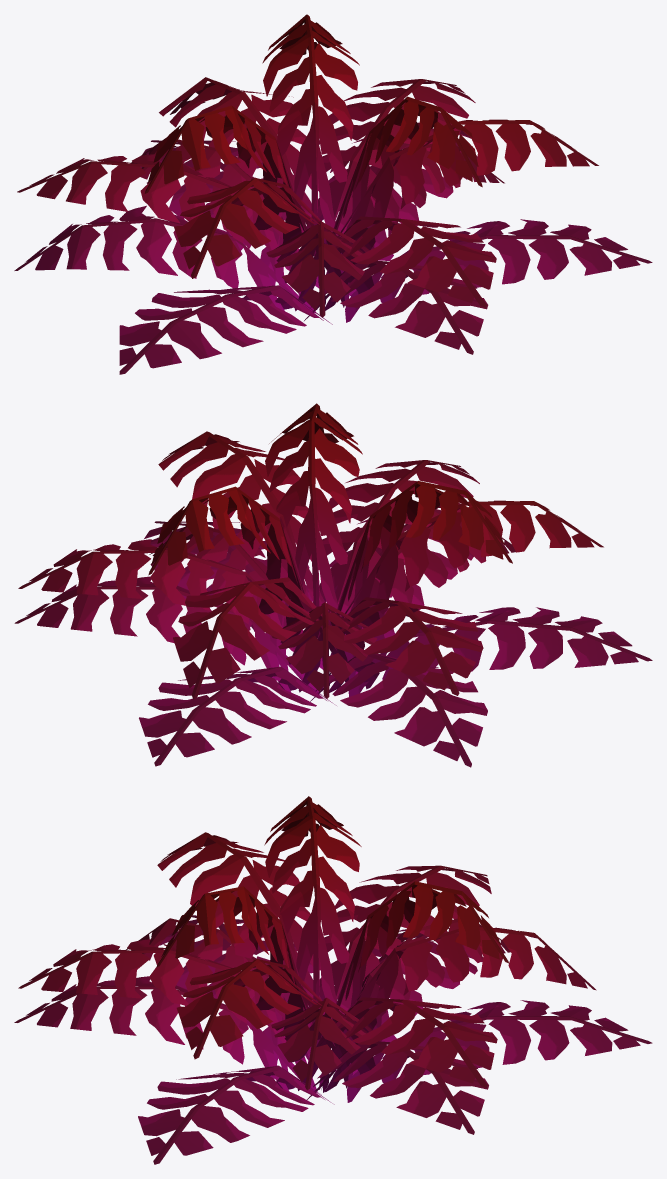
File: synty-plant-fern-leaves-02.gltf
3 renders of one model, top to bottom at view 1: azimuth 30°, elevation 25°; view 2: azimuth 150°, elevation 25°; view 3: azimuth 270°, elevation 25°, orthographic.
Parts seen in each view (by area): view 1: SM_Plant_Fern_Leaves_02; view 2: SM_Plant_Fern_Leaves_02; view 3: SM_Plant_Fern_Leaves_02.
Boxes of the visible parts, bbox=[...] form: SM_Plant_Fern_Leaves_02: bbox=[14, 14, 652, 374]; SM_Plant_Fern_Leaves_02: bbox=[14, 403, 652, 767]; SM_Plant_Fern_Leaves_02: bbox=[14, 796, 652, 1164].
Size of the model in its own units: 1.29 by 0.5601 by 1.4.
Materials: 1 (1 with a texture image).
